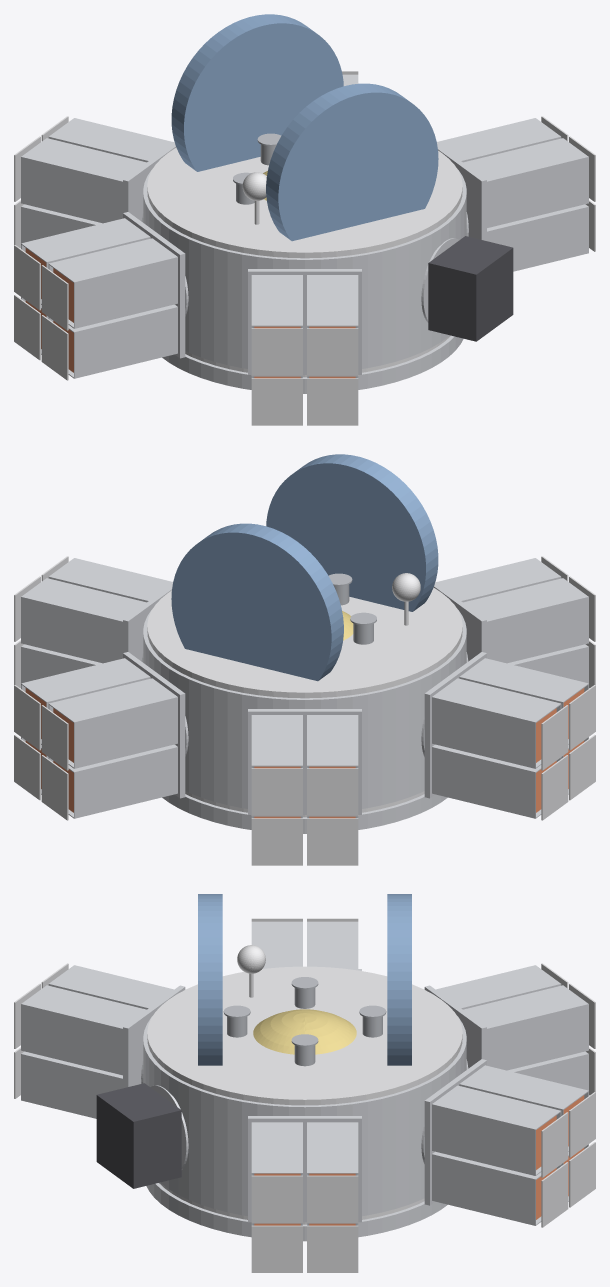
The model's file is carrier_stowed.glb.
The picture shows the model from 3 angles, top to bottom: view 1: azimuth 30°, elevation 25°; view 2: azimuth 150°, elevation 25°; view 3: azimuth 270°, elevation 25°; orthographic projection.
Parts seen in each view (by area): view 1: array_1, ring, array_0, top_deck, tube_3_3, sensor_head, tube_0_2, tube_2_3, tube_3_1, tube_0_0, sep_ring, tube_3_2 (+20 smaller); view 2: array_0, ring, array_1, top_deck, tube_1_3, tube_3_2, tube_0_3, tube_4_2, tube_1_1, tube_3_0, tube_1_2, tube_3_3 (+26 smaller); view 3: top_deck, ring, tube_1_2, sensor_head, tube_4_3, tube_2_2, tube_1_0, tube_4_1, array_0, array_1, xe_tank, sep_ring (+27 smaller).
Boxes of the visible parts, x1=… form: array_1: x1=266, y1=83, x2=438, y2=241; ring: x1=143, y1=169, x2=466, y2=368; array_0: x1=171, y1=14, x2=343, y2=171; top_deck: x1=147, y1=147, x2=462, y2=258; tube_3_3: x1=48, y1=238, x2=177, y2=328; sensor_head: x1=428, y1=236, x2=513, y2=341; tube_0_2: x1=463, y1=138, x2=588, y2=227; tube_2_3: x1=21, y1=138, x2=146, y2=223; tube_3_1: x1=48, y1=304, x2=177, y2=378; tube_0_0: x1=487, y1=204, x2=588, y2=271; sep_ring: x1=162, y1=335, x2=463, y2=393; tube_3_2: x1=21, y1=218, x2=150, y2=304; array_0: x1=171, y1=523, x2=343, y2=681; ring: x1=143, y1=609, x2=466, y2=808; array_1: x1=266, y1=454, x2=438, y2=611; top_deck: x1=147, y1=587, x2=462, y2=698; tube_1_3: x1=48, y1=678, x2=177, y2=768; tube_3_2: x1=432, y1=678, x2=561, y2=768; tube_0_3: x1=21, y1=578, x2=146, y2=663; tube_4_2: x1=463, y1=578, x2=588, y2=663; tube_1_1: x1=48, y1=744, x2=177, y2=818; tube_3_0: x1=432, y1=744, x2=561, y2=818; tube_1_2: x1=21, y1=658, x2=150, y2=744; tube_3_3: x1=459, y1=658, x2=588, y2=744; top_deck: x1=147, y1=966, x2=462, y2=1105; ring: x1=143, y1=1016, x2=466, y2=1216; tube_1_2: x1=432, y1=1085, x2=561, y2=1175; sensor_head: x1=96, y1=1083, x2=181, y2=1188; tube_4_3: x1=21, y1=985, x2=146, y2=1075; tube_2_2: x1=463, y1=985, x2=588, y2=1070; tube_1_0: x1=432, y1=1151, x2=561, y2=1225; tube_4_1: x1=21, y1=1051, x2=122, y2=1118; array_0: x1=387, y1=894, x2=411, y2=1065; array_1: x1=198, y1=894, x2=222, y2=1065; xe_tank: x1=253, y1=1009, x2=356, y2=1054; sep_ring: x1=146, y1=1183, x2=447, y2=1241.
Size of the model in its own units: 2.97 by 1.45 by 2.83.
